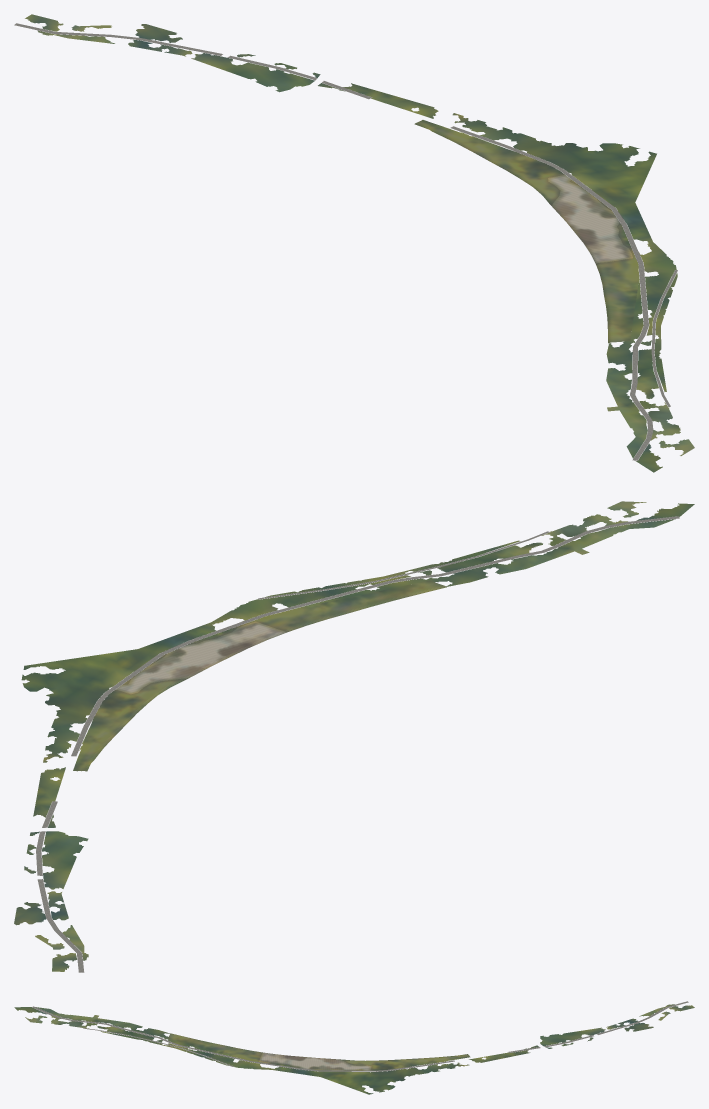
3 views of the same model, one above another, from view 1: azimuth 30°, elevation 25°; view 2: azimuth 150°, elevation 25°; view 3: azimuth 270°, elevation 25° (orthographic). The views are drawn at different scales.
Visible parts, largest first — view 1: Marina Promenade ground cover, Marina Promenade ground cover along the bank, Marina Promenade concrete, Marina Promenade compacted gravel along the bank; view 2: Marina Promenade ground cover, Marina Promenade ground cover along the bank, Marina Promenade concrete, Marina Promenade compacted gravel along the bank; view 3: Marina Promenade ground cover, Marina Promenade ground cover along the bank, Marina Promenade concrete, Marina Promenade compacted gravel along the bank.
Part boxes in pixels (<box>): Marina Promenade ground cover: <box>25,14,694,472</box>; Marina Promenade ground cover along the bank: <box>414,120,640,343</box>; Marina Promenade concrete: <box>14,23,677,460</box>; Marina Promenade compacted gravel along the bank: <box>548,175,632,263</box>; Marina Promenade ground cover: <box>14,501,694,971</box>; Marina Promenade ground cover along the bank: <box>73,580,446,771</box>; Marina Promenade concrete: <box>36,516,679,972</box>; Marina Promenade compacted gravel along the bank: <box>116,621,286,694</box>; Marina Promenade ground cover: <box>14,1004,694,1094</box>; Marina Promenade ground cover along the bank: <box>167,1033,470,1071</box>; Marina Promenade concrete: <box>32,1001,688,1071</box>; Marina Promenade compacted gravel along the bank: <box>259,1052,371,1070</box>.
Size of the model in its own units: 283 by 0.6801 by 874.
Materials: 3 (3 with a texture image).
